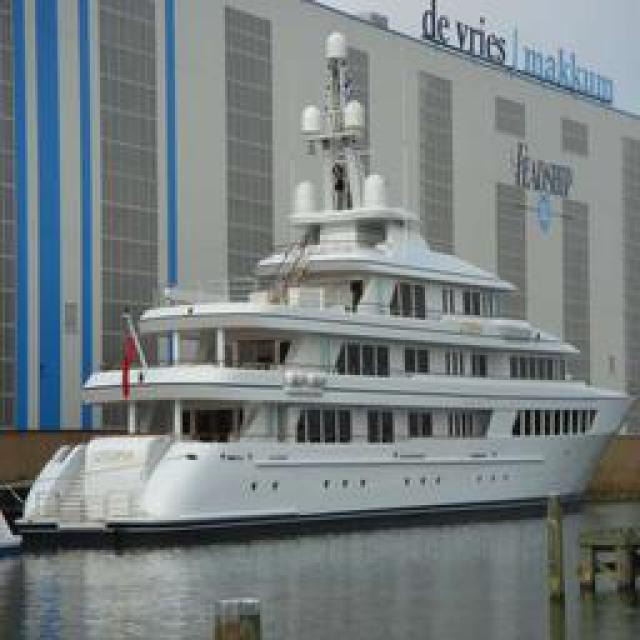Ship: (33, 156, 628, 531)
